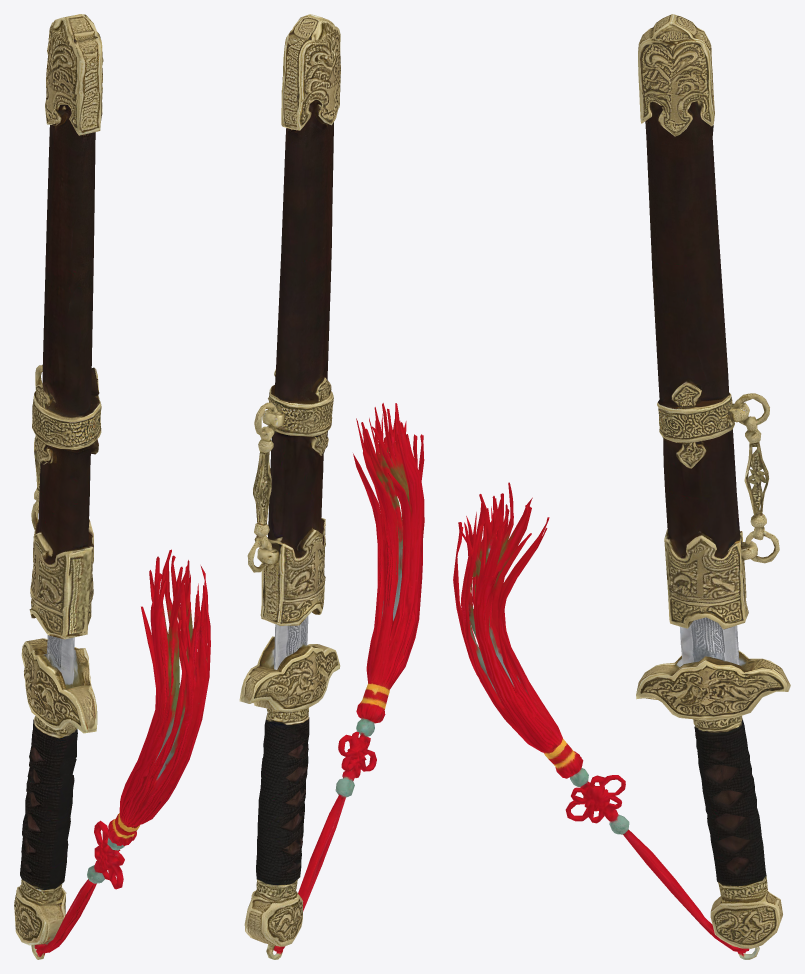
Rendered from item_qingfeng_sword.tpl_f2_medium.glb.
3 renders of one model, left to right at view 1: azimuth 30°, elevation 25°; view 2: azimuth 150°, elevation 25°; view 3: azimuth 270°, elevation 25°, orthographic. The views are drawn at different scales.
Parts seen in each view (by area): view 1: NormalizedProp; view 2: NormalizedProp; view 3: NormalizedProp.
Part boxes in pixels (<box>): NormalizedProp: <box>14,14,210,959</box>; NormalizedProp: <box>239,14,424,959</box>; NormalizedProp: <box>453,14,790,959</box>.
Size of the model in its own units: 0.0395 by 0.5358 by 0.1742.
1 material, 1 textured.
